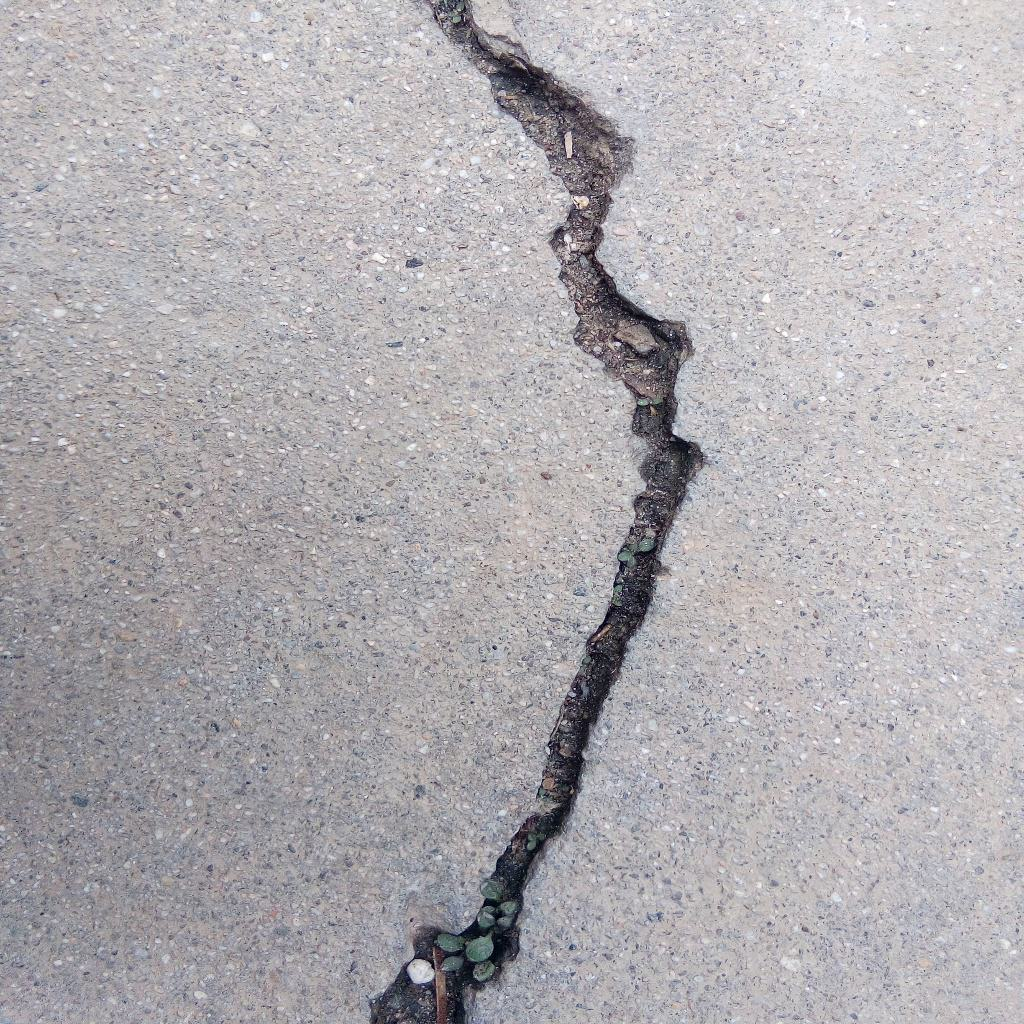Crack: (367, 1, 707, 1024)
